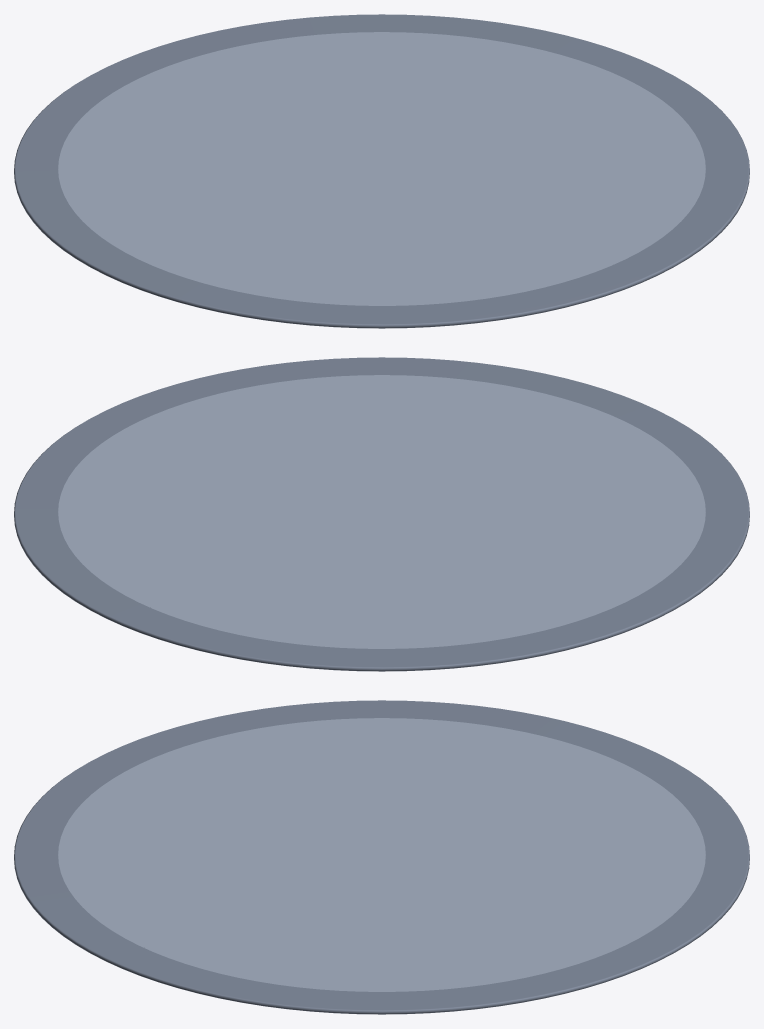
Rendered from 圆形地毯-lite.glb.
3 renders of one model, top to bottom at view 1: azimuth 30°, elevation 25°; view 2: azimuth 150°, elevation 25°; view 3: azimuth 270°, elevation 25°, orthographic.
Visible parts, largest first — view 1: round-rug-inset, round-rug-border; view 2: round-rug-inset, round-rug-border; view 3: round-rug-inset, round-rug-border.
Part boxes in pixels (<box>): round-rug-inset: <box>58,32,705,305</box>; round-rug-border: <box>14,14,749,328</box>; round-rug-inset: <box>58,375,705,648</box>; round-rug-border: <box>14,357,749,671</box>; round-rug-inset: <box>58,718,705,991</box>; round-rug-border: <box>14,700,749,1014</box>.
Bounding box in the file's own units: 1.8 × 0.013 × 1.8.
